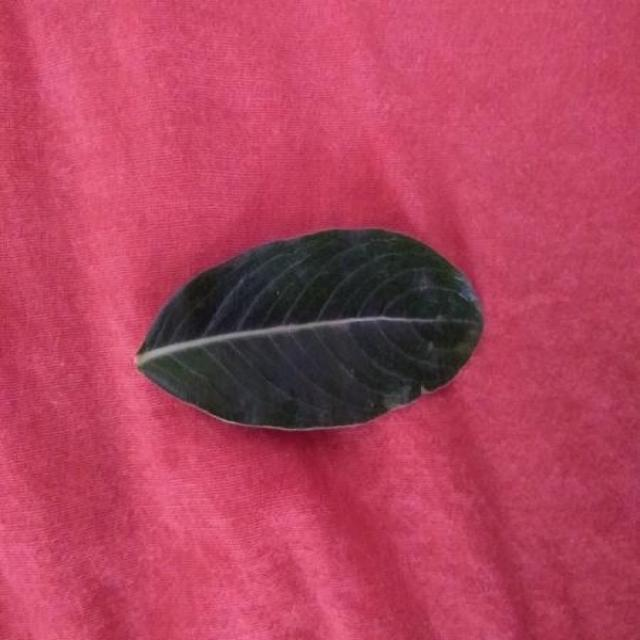catharanthus: (137, 229, 483, 429)
defectedcatharanthus: (181, 230, 482, 429)
